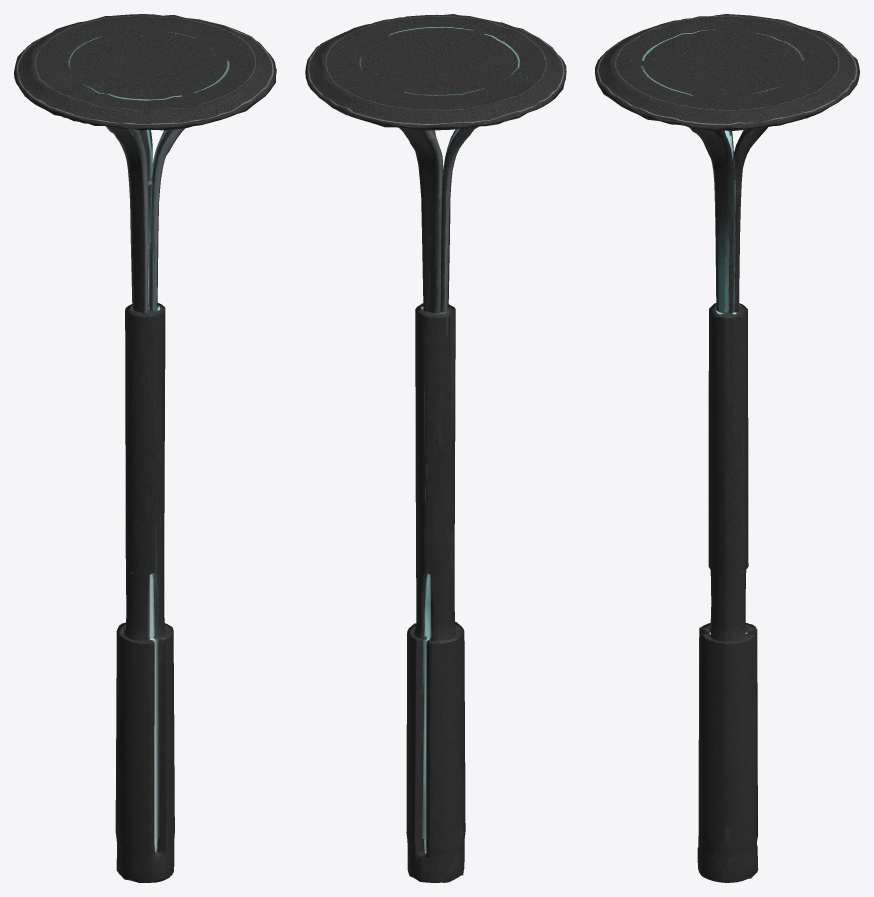
Rendered from emerald_halo_lamp.glb.
The picture shows the model from 3 angles, left to right: view 1: azimuth 30°, elevation 25°; view 2: azimuth 150°, elevation 25°; view 3: azimuth 270°, elevation 25°; orthographic projection.
Size of the model in its own units: 0.2959 by 1 by 0.2969.
Materials: 1 (1 with a texture image).
